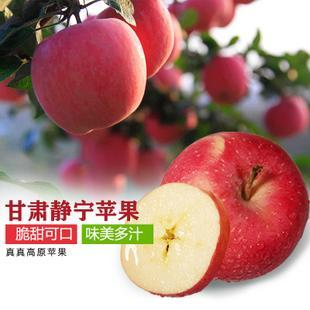apple: (157, 128, 309, 283), (32, 13, 146, 135)
